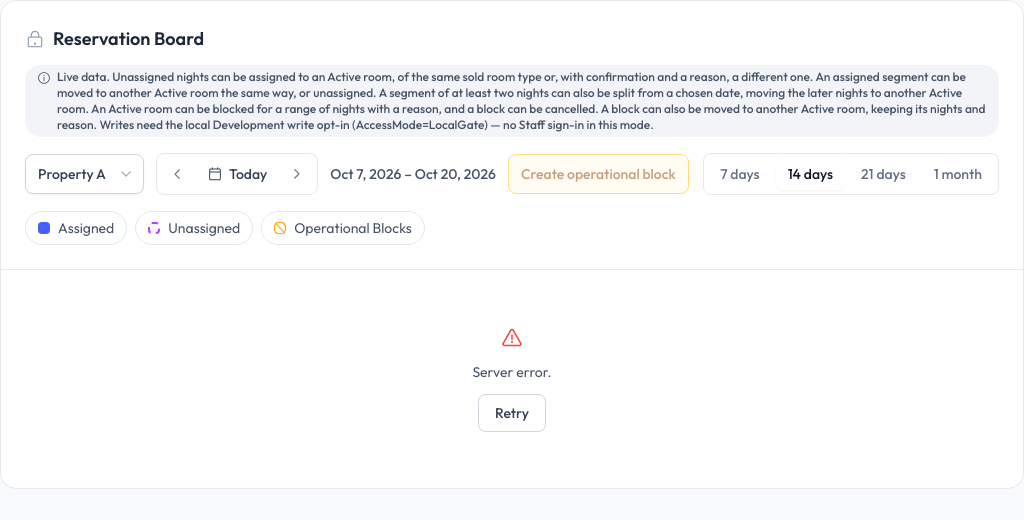
Test: ReservationBoard › shows a board-load error with Retry, and Retry re-issues the request
Expected: the text "Server error." is shown, top-left (472, 362), bottom-right (552, 382)
Step 1. Click the button "Retry" → (512, 413), box top-left (478, 394), bottom-right (546, 432)
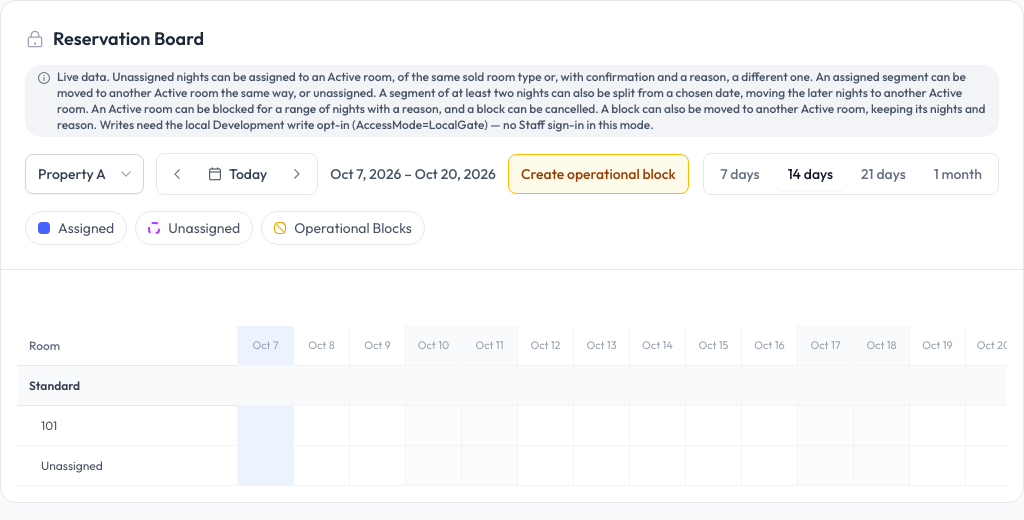
Expected: the text "101" is shown, top-left (17, 406), bottom-right (237, 446)
